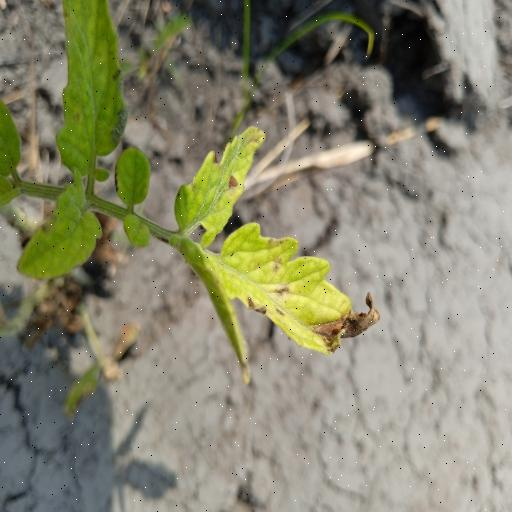Tomato_Brown_Spots: (210, 220, 382, 362), (54, 0, 132, 184), (172, 124, 266, 236), (17, 182, 102, 282)
